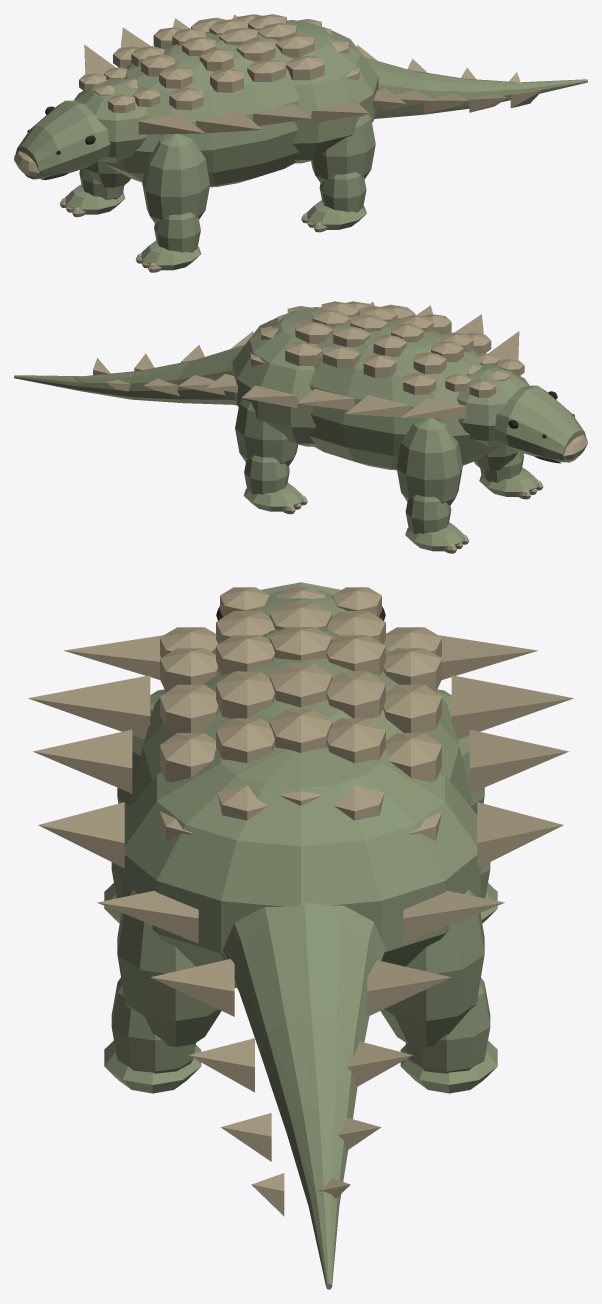
3 renders of one model, top to bottom at view 1: azimuth 30°, elevation 25°; view 2: azimuth 150°, elevation 25°; view 3: azimuth 270°, elevation 25°, orthographic. The views are drawn at different scales.
Visible parts, largest first — view 1: gastonia_surface_0, gastonia_surface_1; view 2: gastonia_surface_0, gastonia_surface_1; view 3: gastonia_surface_0, gastonia_surface_1.
Part boxes in pixels (bbox=[...]): gastonia_surface_0: bbox=[15, 20, 587, 270]; gastonia_surface_1: bbox=[14, 14, 541, 272]; gastonia_surface_0: bbox=[14, 307, 586, 551]; gastonia_surface_1: bbox=[73, 301, 587, 553]; gastonia_surface_0: bbox=[104, 582, 497, 1289]; gastonia_surface_1: bbox=[28, 587, 573, 1216].
Bounding box in the file's own units: 5.07 × 1.54 × 2.14.
